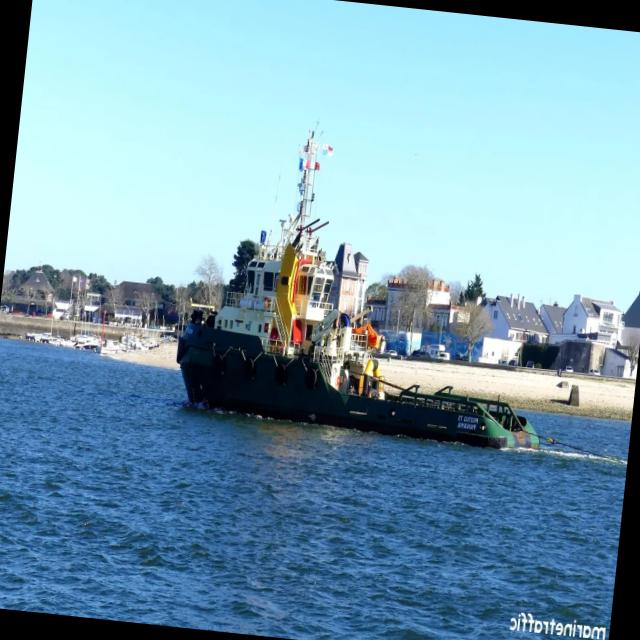Tug: (176, 162, 538, 448)
